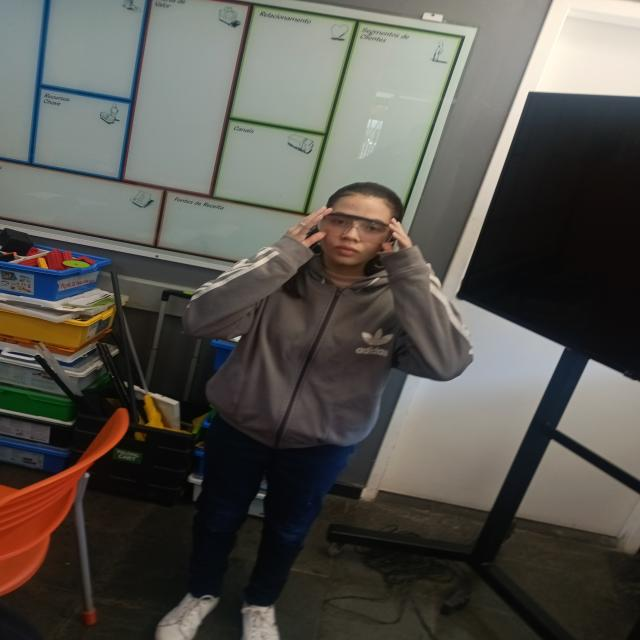oculos-epi: (318, 203, 396, 250)
